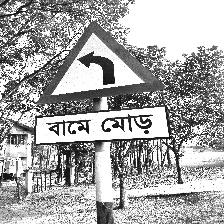Left-Turn: (32, 20, 170, 147)
